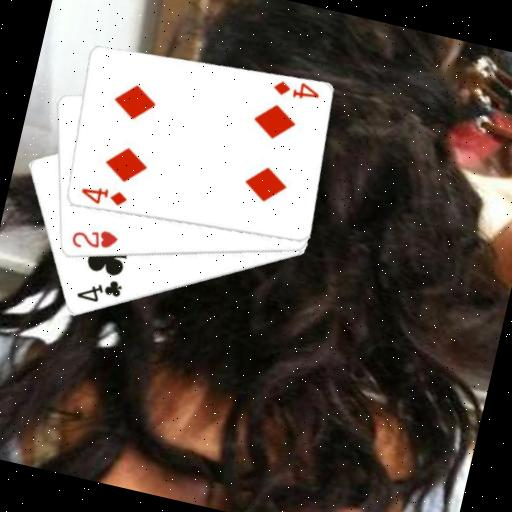2H: (66, 221, 121, 259)
4C: (73, 270, 126, 310)
4D: (76, 180, 130, 212), (268, 75, 322, 106)
